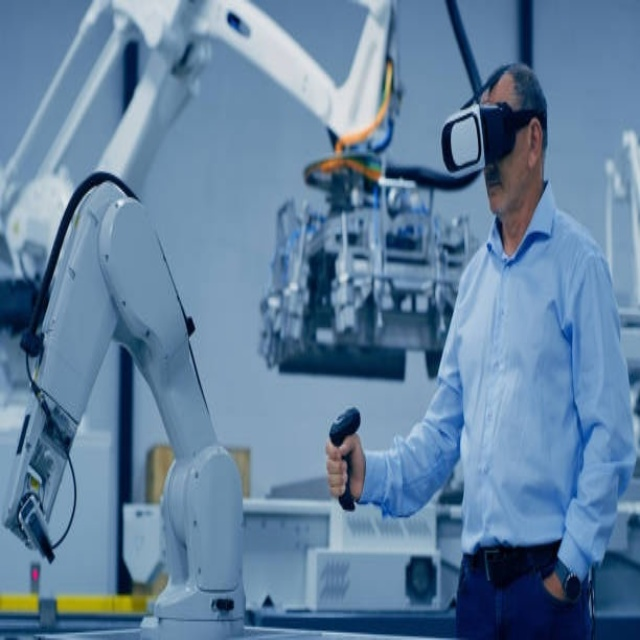Sin_guantes: (325, 434, 359, 503)
Sin_mascara: (482, 166, 511, 216)
